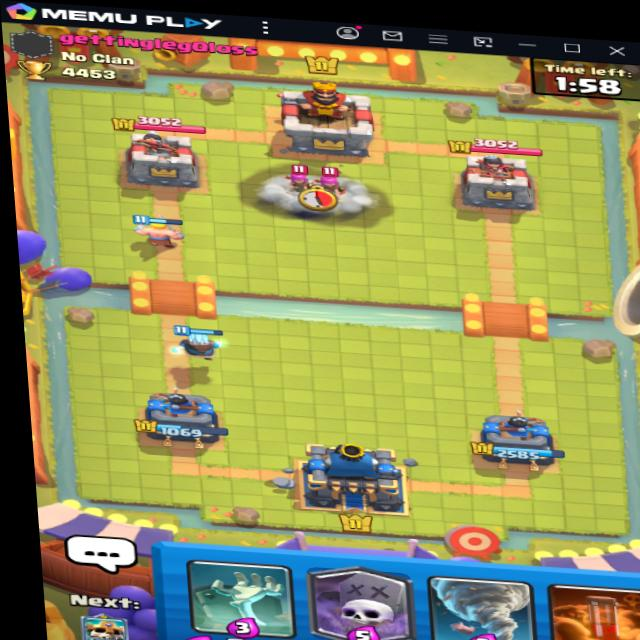archer: (283, 161, 321, 200), (312, 164, 348, 199)
